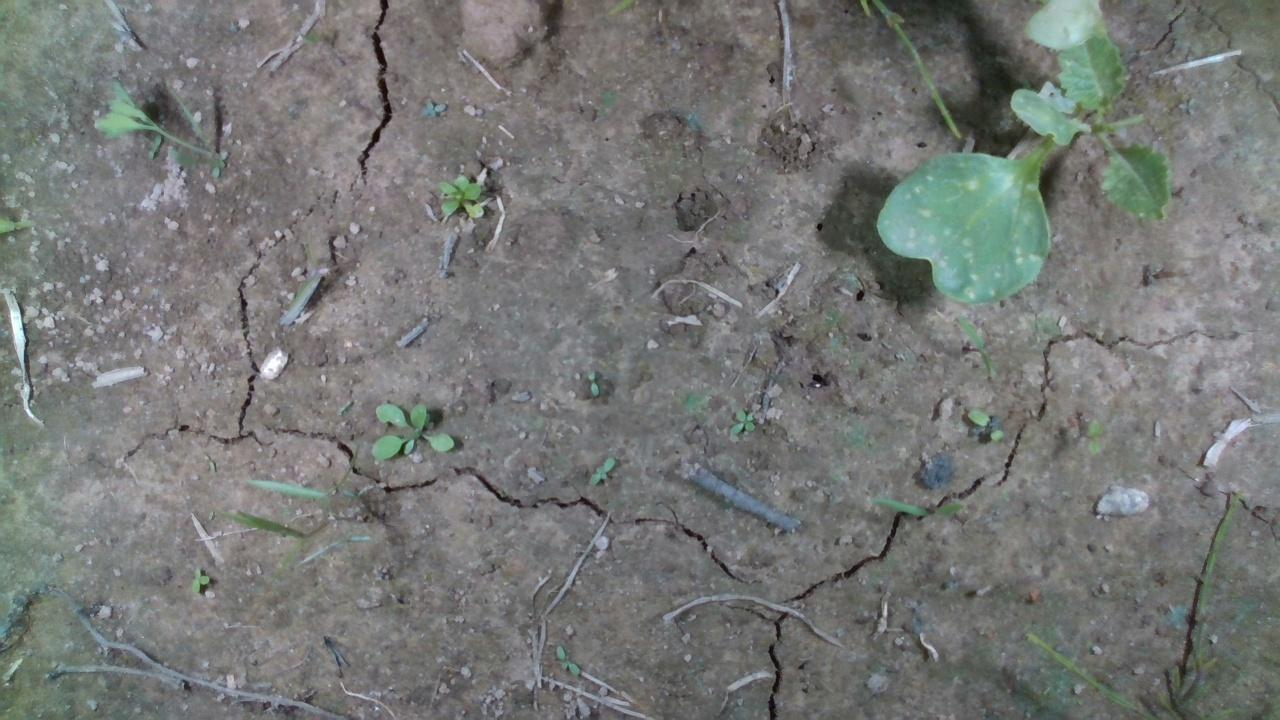weed: (580, 454, 618, 487)
